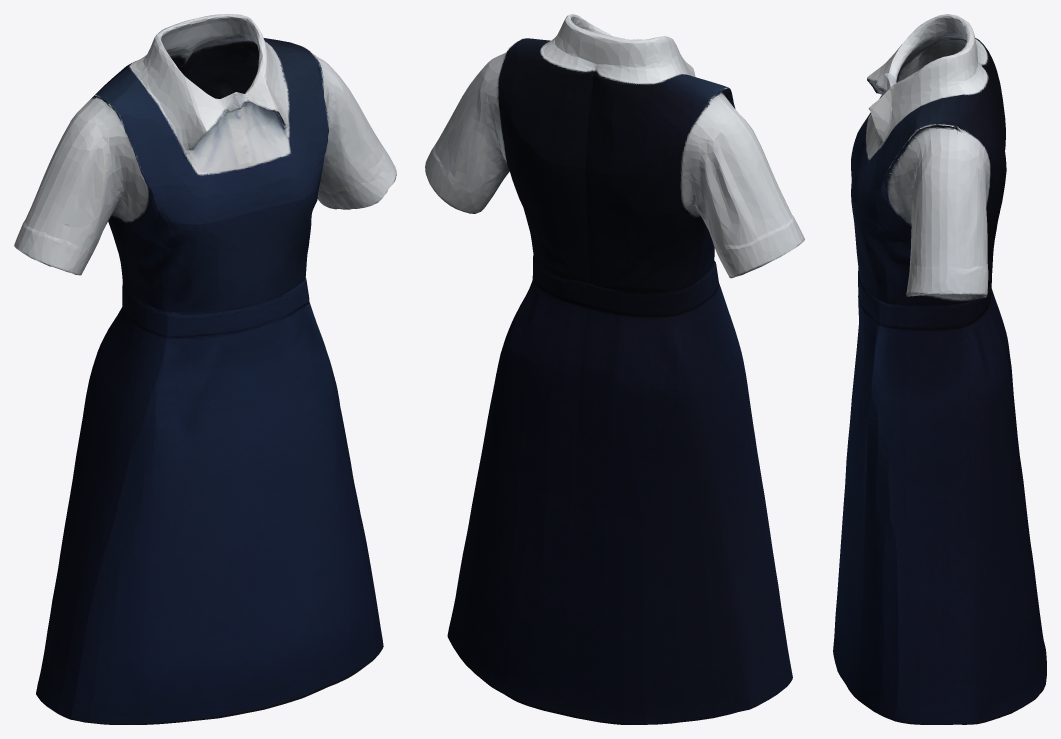
Rendered from pinafore.glb.
The picture shows the model from 3 angles, left to right: view 1: azimuth 30°, elevation 25°; view 2: azimuth 150°, elevation 25°; view 3: azimuth 270°, elevation 25°; orthographic projection. The views are drawn at different scales.
Parts seen in each view (by area): view 1: world; view 2: world; view 3: world.
Part boxes in pixels (x1,y1,x2,y2): world: [14, 14, 396, 724]; world: [425, 14, 804, 724]; world: [833, 14, 1046, 724].
Size of the model in its own units: 0.5928 by 1 by 0.3062.
Materials: 1 (1 with a texture image).
